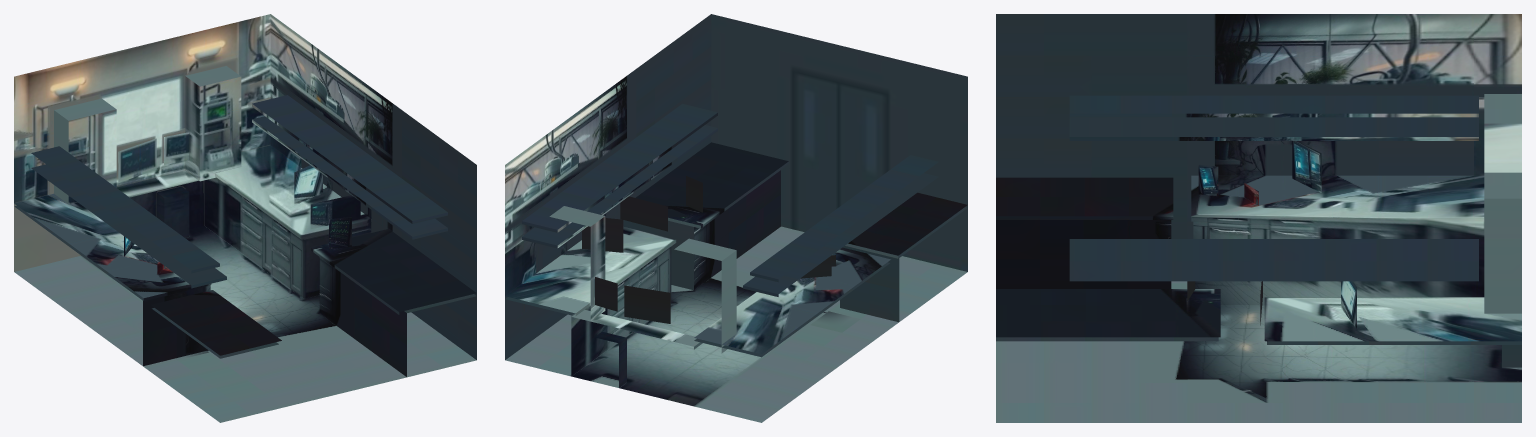
File: lab-story.glb
3 renders of one model, left to right at view 1: azimuth 30°, elevation 25°; view 2: azimuth 150°, elevation 25°; view 3: azimuth 270°, elevation 25°, orthographic. The views are drawn at different scales.
Visible parts, largest first — view 1: Lab; view 2: Lab; view 3: Lab.
Boxes of the visible parts, left/top/right/bottom form: Lab: left=14, top=14, right=476, bottom=422; Lab: left=505, top=14, right=967, bottom=422; Lab: left=996, top=14, right=1521, bottom=422.
Size of the model in its own units: 3.6 by 2.62 by 5.01.
1 material, 1 textured.
